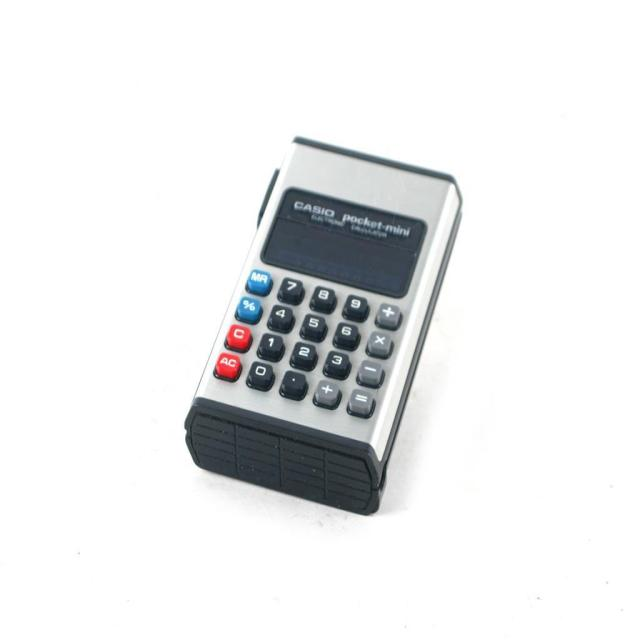Calculator: (159, 104, 491, 568)
